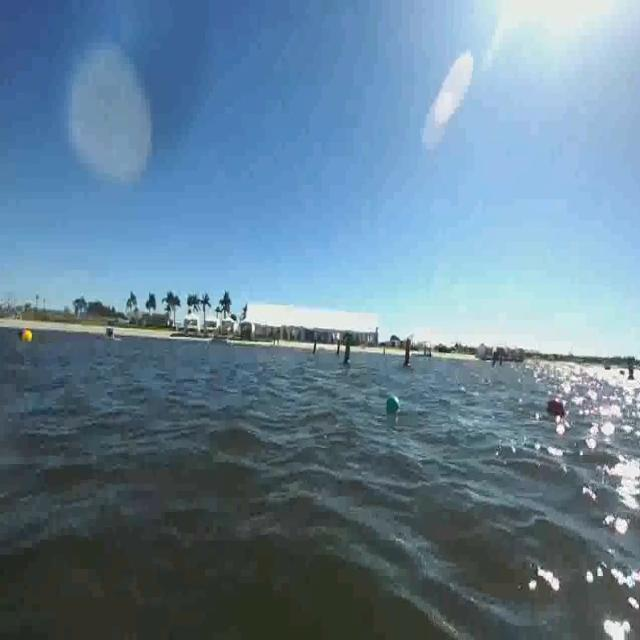green-buoy: (384, 398, 396, 414)
green-column-buoy: (343, 333, 354, 367)
red-buoy: (547, 390, 566, 422)
red-column-buoy: (402, 338, 412, 369)
yellow-buoy: (24, 329, 34, 345)
